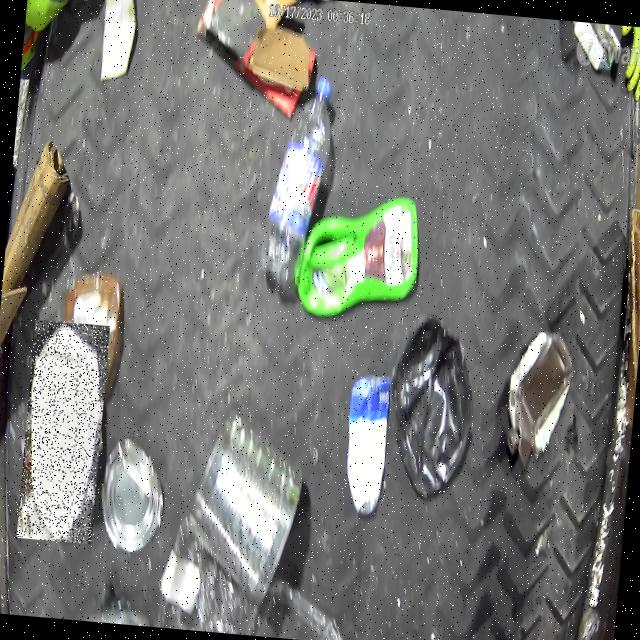milk-jug: (16, 319, 110, 544)
